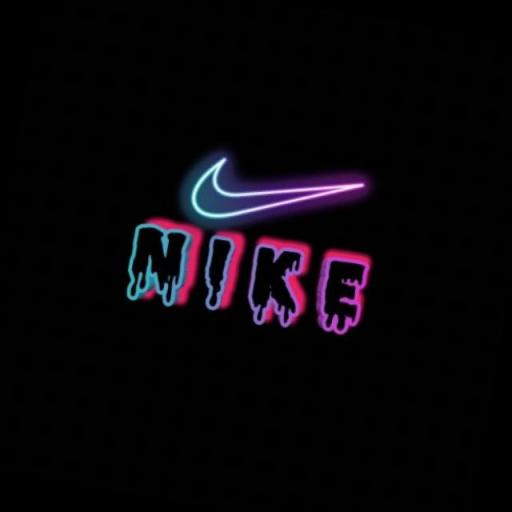Nike: (170, 135, 376, 250)
